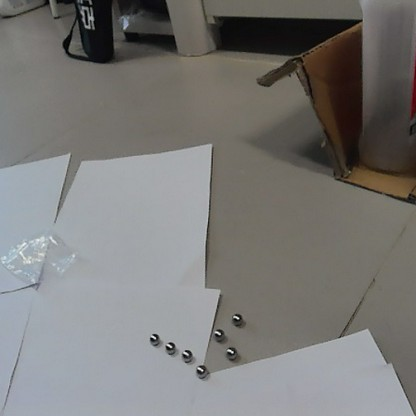ironball: (193, 362, 208, 377), (211, 326, 224, 343), (179, 346, 192, 363), (230, 310, 244, 324), (161, 339, 175, 353), (148, 331, 159, 348), (224, 344, 236, 359)
